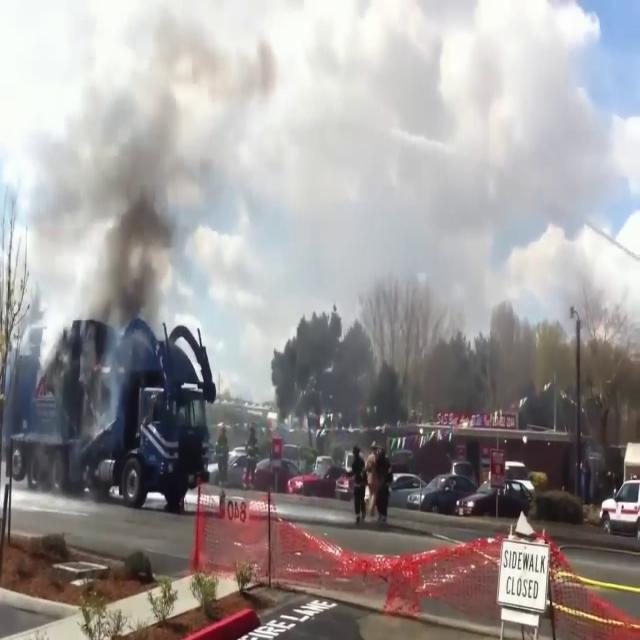Smoke: (16, 14, 206, 462)
